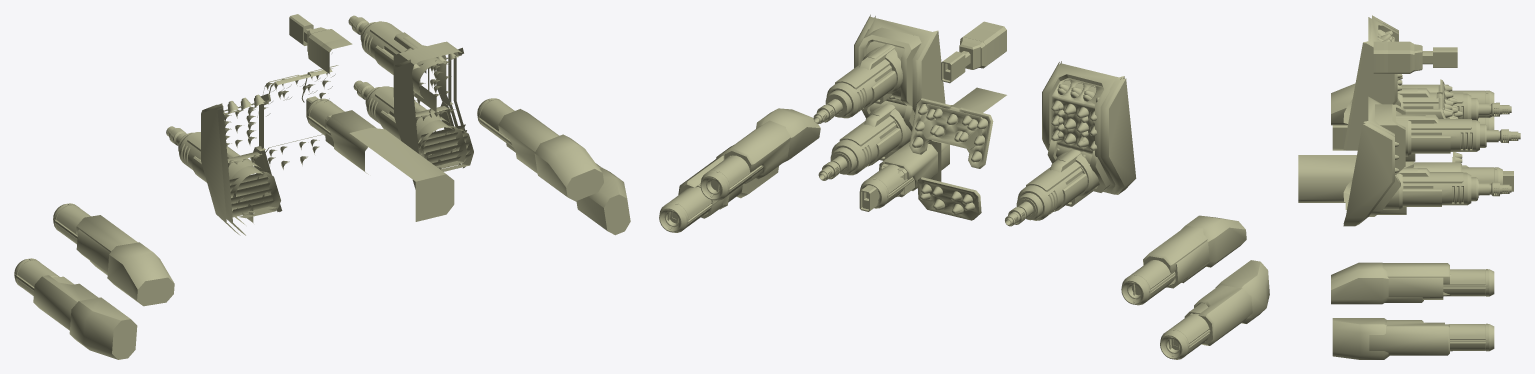
The model's file is CyclopsWeapons.glb.
The picture shows the model from 3 angles, left to right: view 1: azimuth 30°, elevation 25°; view 2: azimuth 150°, elevation 25°; view 3: azimuth 270°, elevation 25°; orthographic projection. The views are drawn at different scales.
Visible parts, largest first — view 1: Torso_Left_MH1_Missile15, Torso_Right_EH1_PPC, Forearm_Right_EH2_Flamer, Forearm_Right_EH2_PPC, Forearm_Left_EH1_PPC, Torso_Right_EH1_Laser, Forearm_Left_EH2_PPC, Forearm_Left_EH1_Flamer, Torso_Right_BH2_AC20, Forearm_Left_EH2_Flamer, Forearm_Left_EH2_Laser, Torso_Right_BH2_MG (+15 smaller); view 2: Torso_Left_MH1_Missile15, Forearm_Right_EH2_PPC, Forearm_Left_EH1_PPC, Torso_Right_BH2_AC20, Forearm_Left_EH2_PPC, Torso_Left_BH1_AC20, Torso_Right_BH1_AC20, Torso_Right_EH1_PPC, Forearm_Left_EH2_Laser, Torso_Center_MH1_Missile10, Forearm_Right_EH1_PPC, Torso_Right_BH2_MG (+17 smaller); view 3: Forearm_Right_EH1_PPC, Torso_Right_EH1_PPC, Torso_Right_BH1_AC20, Forearm_Right_EH2_Laser, Torso_Right_MH1_Missile15, Torso_Right_BH2_AC20, Torso_Left_MH1_Missile2, Forearm_Right_EH2_PPC, Torso_Left_BH1_AC20, Head_EH1_Flamer, Forearm_Right_EH1_Flamer, Torso_Right_MH1_Missile20 (+17 smaller).
Part boxes in pixels (<box>): Torso_Left_MH1_Missile15: <box>201,94,279,235</box>; Torso_Right_EH1_PPC: <box>306,98,454,188</box>; Forearm_Right_EH2_Flamer: <box>506,134,603,201</box>; Forearm_Right_EH2_PPC: <box>477,98,559,173</box>; Forearm_Left_EH1_PPC: <box>14,258,98,330</box>; Torso_Right_EH1_Laser: <box>325,116,454,221</box>; Forearm_Left_EH2_PPC: <box>53,203,137,275</box>; Forearm_Left_EH1_Flamer: <box>70,311,137,359</box>; Torso_Right_BH2_AC20: <box>360,21,443,111</box>; Forearm_Left_EH2_Flamer: <box>78,251,174,306</box>; Forearm_Left_EH2_Laser: <box>76,229,152,299</box>; Torso_Right_BH2_MG: <box>393,36,461,112</box>; Torso_Left_MH1_Missile15: <box>1047,74,1136,194</box>; Forearm_Right_EH2_PPC: <box>700,120,790,200</box>; Forearm_Left_EH1_PPC: <box>1160,284,1252,359</box>; Torso_Right_BH2_AC20: <box>825,44,902,118</box>; Forearm_Left_EH2_PPC: <box>1121,226,1209,305</box>; Torso_Left_BH1_AC20: <box>1016,61,1099,220</box>; Torso_Right_BH1_AC20: <box>830,106,911,175</box>; Torso_Right_EH1_PPC: <box>860,87,1006,208</box>; Forearm_Left_EH2_Laser: <box>1167,215,1246,288</box>; Torso_Center_MH1_Missile10: <box>909,98,993,168</box>; Forearm_Right_EH1_PPC: <box>659,155,729,232</box>; Torso_Right_BH2_MG: <box>858,27,921,106</box>; Forearm_Right_EH1_PPC: <box>1369,320,1494,355</box>; Torso_Right_EH1_PPC: <box>1298,155,1502,202</box>; Torso_Right_BH1_AC20: <box>1343,123,1477,224</box>; Forearm_Right_EH2_Laser: <box>1331,269,1444,304</box>; Torso_Right_MH1_Missile15: <box>1343,124,1392,226</box>; Torso_Right_BH2_AC20: <box>1389,114,1486,161</box>; Torso_Left_MH1_Missile2: <box>1346,17,1398,150</box>; Forearm_Right_EH2_PPC: <box>1382,263,1494,302</box>; Torso_Left_BH1_AC20: <box>1343,41,1477,150</box>; Head_EH1_Flamer: <box>1388,41,1457,72</box>; Forearm_Right_EH1_Flamer: <box>1332,321,1452,359</box>; Torso_Right_MH1_Missile20: <box>1344,121,1398,226</box>.
Bounding box in the file's own units: 1.79 × 0.7423 × 0.7283.
